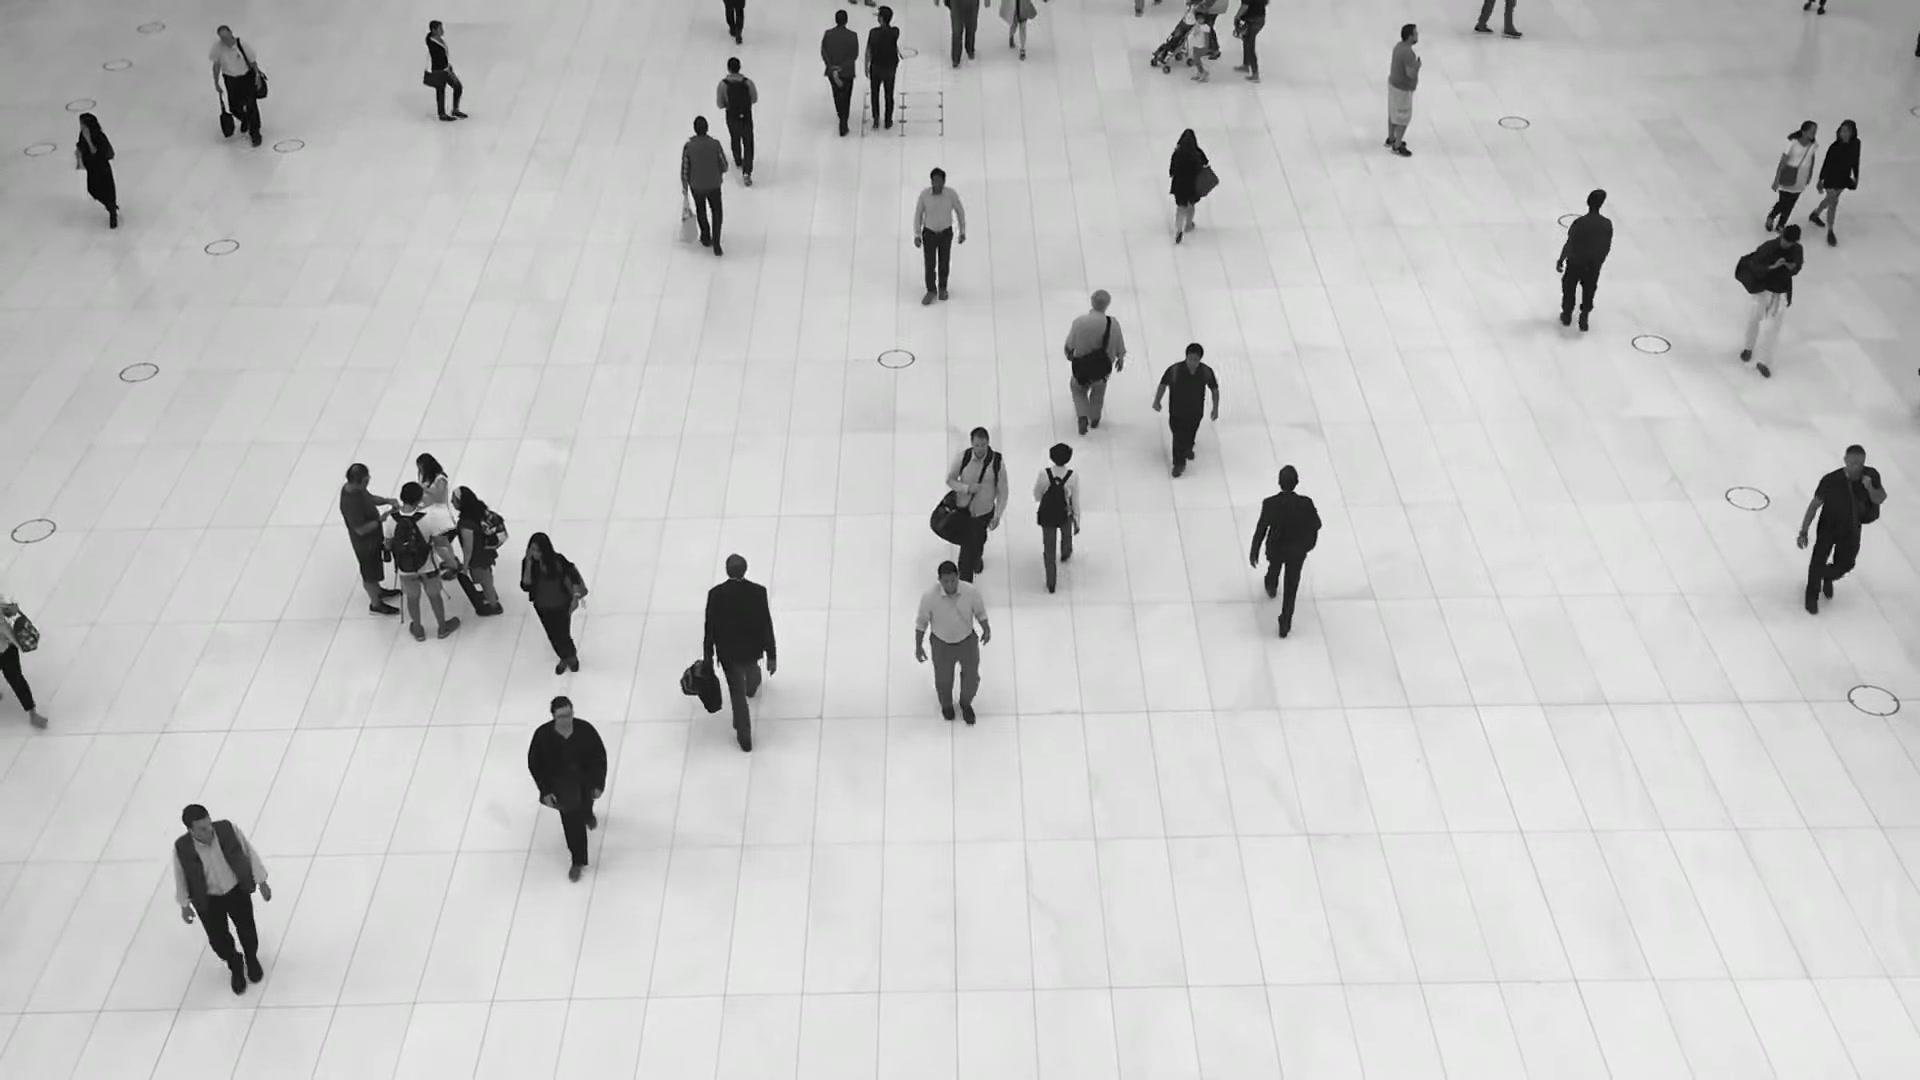person: (171, 809, 272, 1014), (1797, 448, 1886, 631), (525, 693, 611, 865), (704, 551, 779, 742), (914, 564, 993, 743), (1247, 463, 1321, 633), (382, 481, 458, 641), (520, 534, 592, 692), (944, 425, 1009, 588), (1735, 225, 1805, 376), (1061, 291, 1125, 445), (338, 463, 400, 615), (1555, 190, 1614, 340), (1157, 343, 1216, 476), (1031, 441, 1083, 592), (912, 169, 964, 314), (679, 116, 729, 260), (450, 485, 503, 616), (207, 25, 261, 150), (1812, 118, 1861, 243), (1165, 128, 1216, 244), (1762, 120, 1816, 228), (422, 20, 477, 121), (715, 54, 759, 180), (415, 452, 459, 580), (74, 111, 119, 229), (1383, 23, 1421, 157), (818, 10, 856, 138), (861, 8, 897, 134), (1185, 12, 1212, 84)
